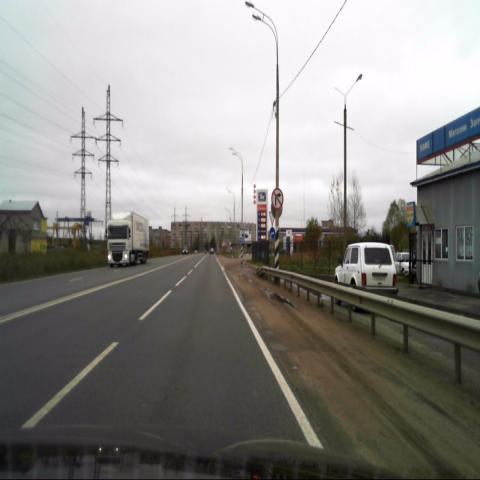3_18: (272, 188, 283, 209)
